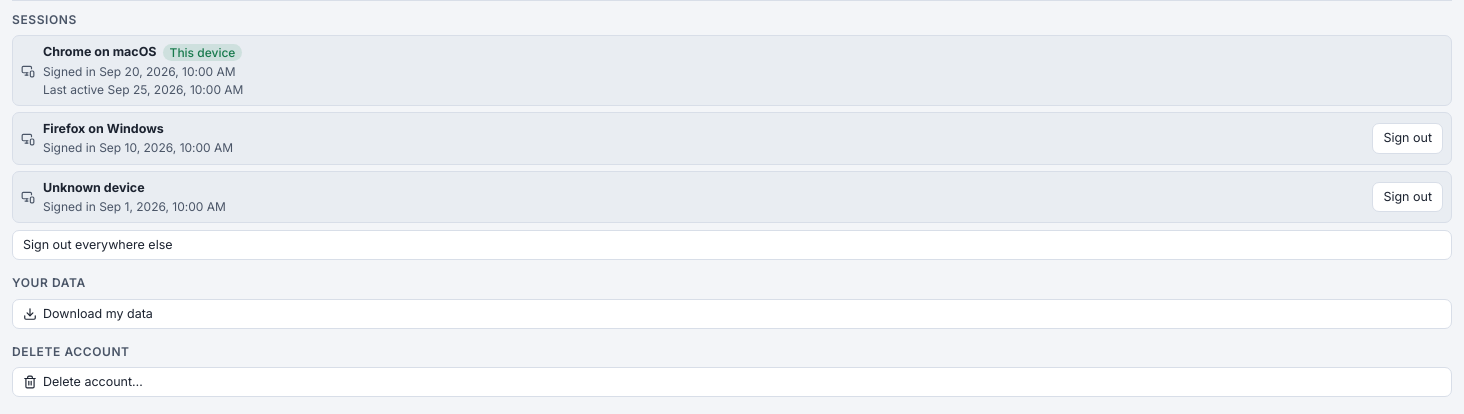
Test: account settings › lists sessions, marks this device and revokes another one
Expected: the number of list items is 3, [12, 35, 1452, 106]; [12, 112, 1452, 165]; [12, 171, 1452, 223]
Expected: the text "This device" is shown, [162, 44, 242, 61]
Click the button with aria-label "Sign out Firefox on Windows": (1408, 139) [1372, 124, 1443, 154]
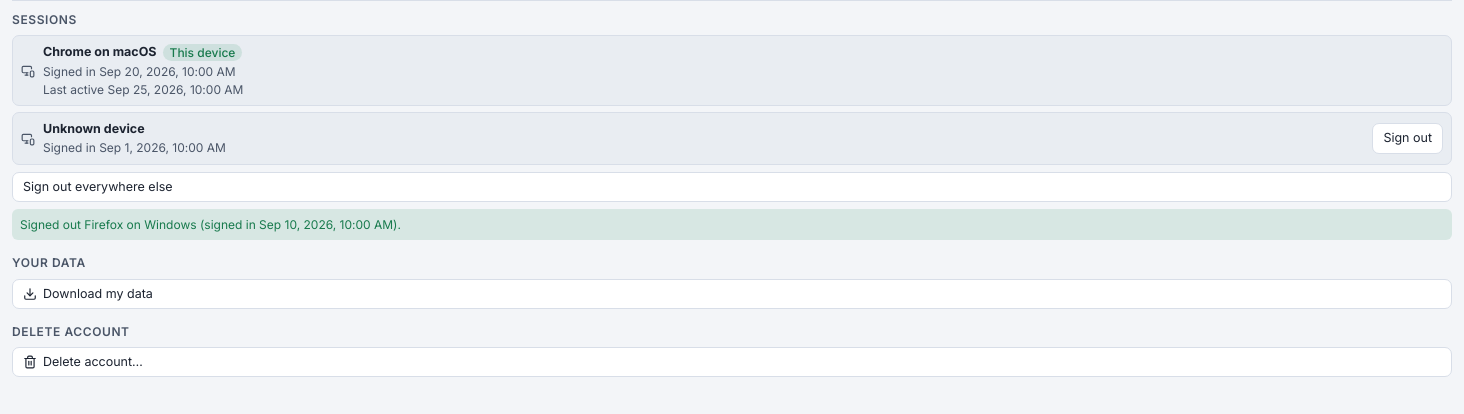
Result: the text "Signed out Firefox on Windows (signed in Sep 10, 2026, 10:00 AM)." is shown at [12, 209, 1452, 240]
